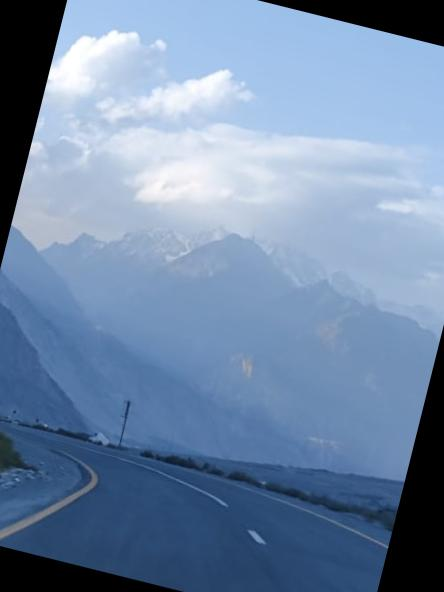left_turn: (19, 409, 289, 532)
